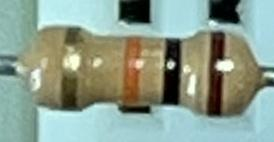Black: (161, 38, 184, 106)
Brown: (206, 29, 228, 117)
Orange: (124, 37, 146, 107)
Side-Gold: (61, 27, 82, 112)
